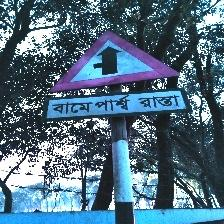Side-road-left: (47, 29, 188, 122)
